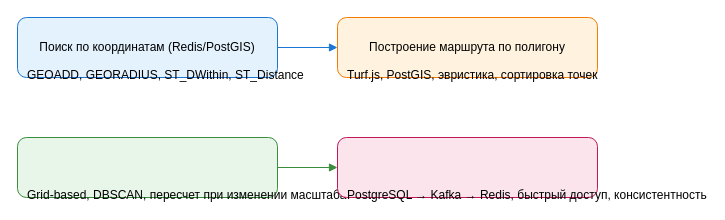
The diagram is 725 pixels wide and 220 high, and some of its shapes have lost their labels. The box of each missing label's shape, as (x1, y1, x2, y2) in pixels:
Кластеризация объектов: (16, 136, 278, 198)
Синхронизация и кэширование (Kafka, Redis): (336, 136, 598, 198)
